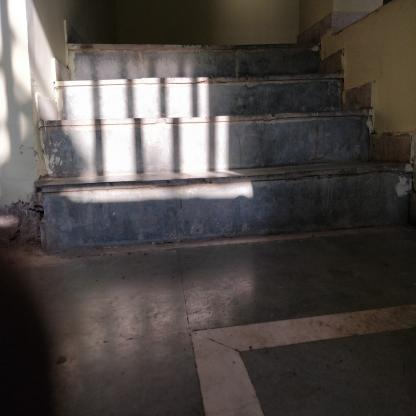stairs: (70, 41, 317, 259)
